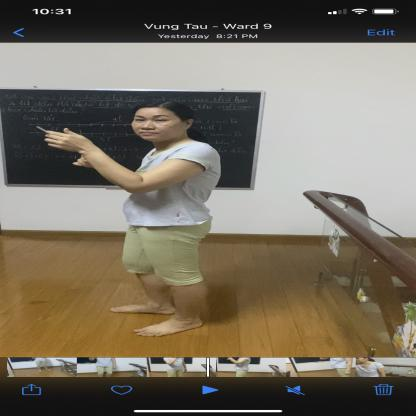cigarette: (35, 125, 51, 135)
person: (38, 92, 224, 340), (356, 357, 388, 377), (95, 358, 114, 378)
